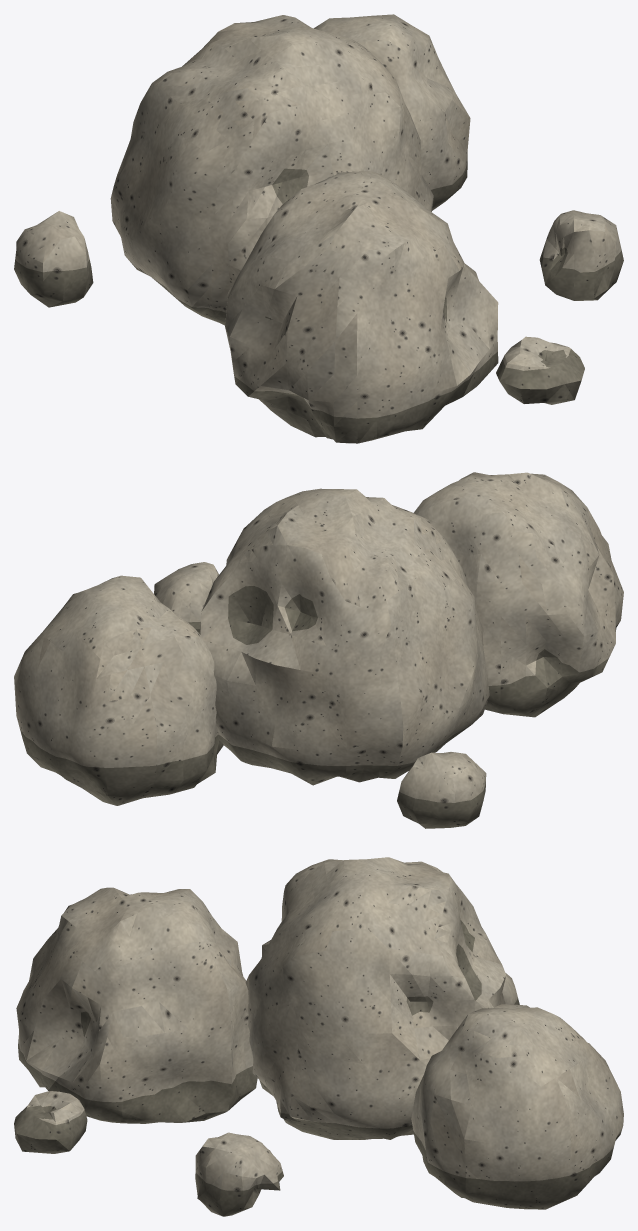
3 renders of one model, top to bottom at view 1: azimuth 30°, elevation 25°; view 2: azimuth 150°, elevation 25°; view 3: azimuth 270°, elevation 25°, orthographic. The views are drawn at different scales.
Parts seen in each view (by area): view 1: rock, rock_wet; view 2: rock, rock_wet; view 3: rock, rock_wet.
Boxes of the visible parts, <box> form: rock: <box>15,14,621,418</box>; rock_wet: <box>14,161,623,443</box>; rock: <box>14,472,623,802</box>; rock_wet: <box>20,586,616,828</box>; rock: <box>16,857,623,1190</box>; rock_wet: <box>14,920,621,1216</box>.
Bounding box in the file's own units: 4.53 × 2.65 × 5.44.
2 materials, 2 textured.
